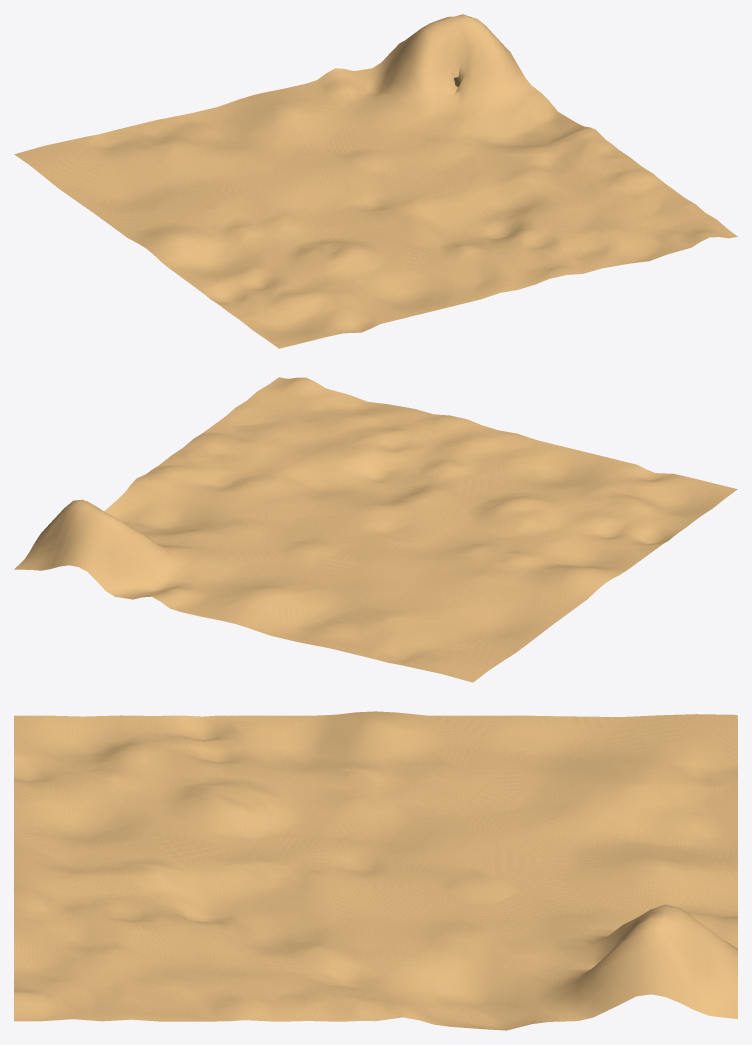
Rendered from fondo-marino.dae.
3 renders of one model, top to bottom at view 1: azimuth 30°, elevation 25°; view 2: azimuth 150°, elevation 25°; view 3: azimuth 270°, elevation 25°, orthographic. The views are drawn at different scales.
Parts seen in each view (by area): view 1: Polygon_Mesh; view 2: Polygon_Mesh; view 3: Polygon_Mesh.
Part boxes in pixels (x1,y1,x2,y2): Polygon_Mesh: (14,14,737,348); Polygon_Mesh: (14,377,737,682); Polygon_Mesh: (14,711,737,1030).
Bounding box in the file's own units: 432184 × 63307 × 432139.
1 material, 1 textured.
